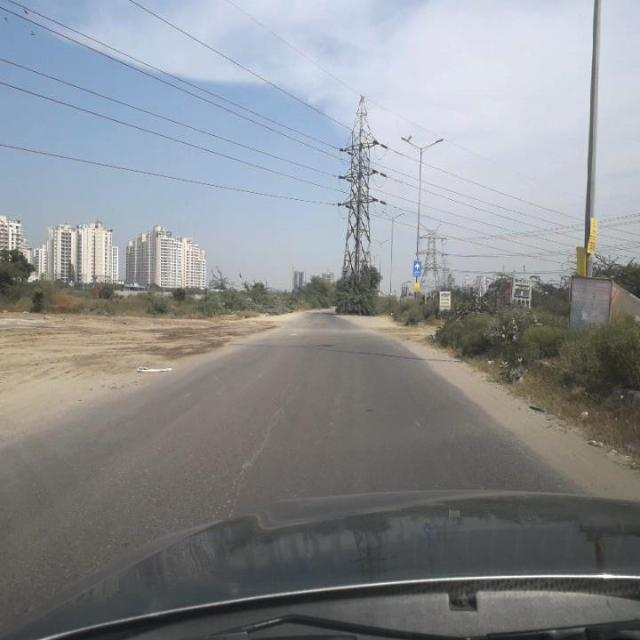pothole: (217, 353, 301, 515)
